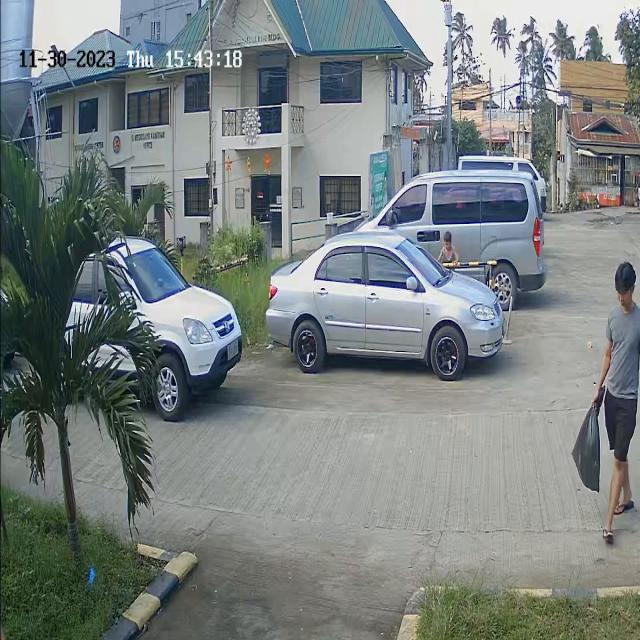garbage: (573, 381, 609, 480)
person: (604, 248, 639, 394)
